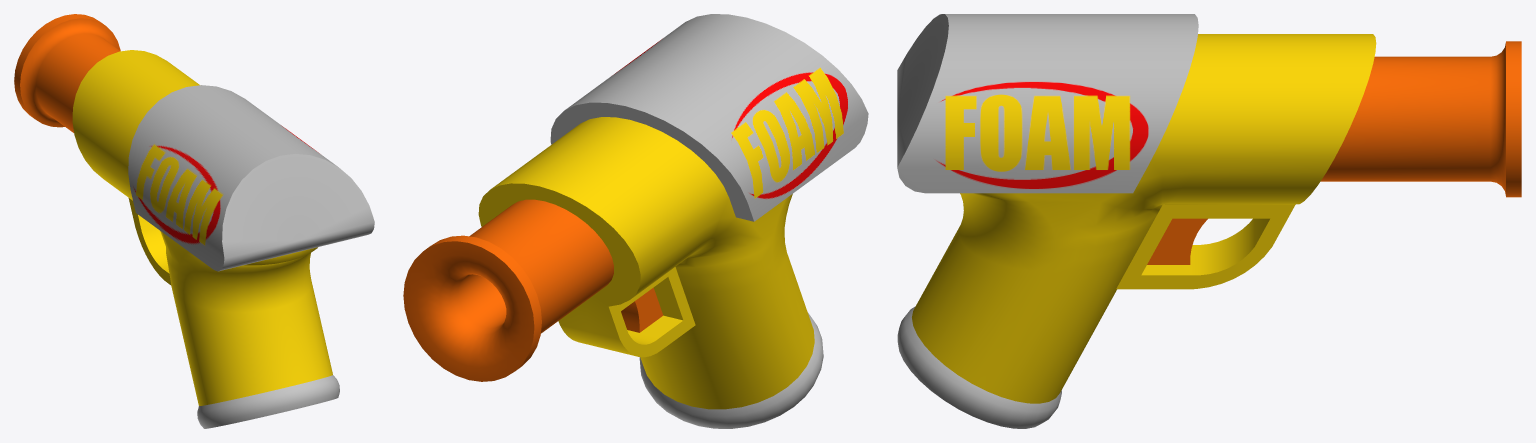
The model's file is Foam Blaster.obj.
The picture shows the model from 3 angles, left to right: view 1: azimuth 30°, elevation 25°; view 2: azimuth 150°, elevation 25°; view 3: azimuth 270°, elevation 25°; orthographic projection. The views are drawn at different scales.
Visible parts, largest first — view 1: Blaster; view 2: Blaster; view 3: Blaster.
Part boxes in pixels (x1,y1,x2,y2): Blaster: (14, 14, 374, 428); Blaster: (403, 14, 868, 428); Blaster: (897, 14, 1521, 428).
Size of the model in its own units: 1.85 by 3.4 by 5.
